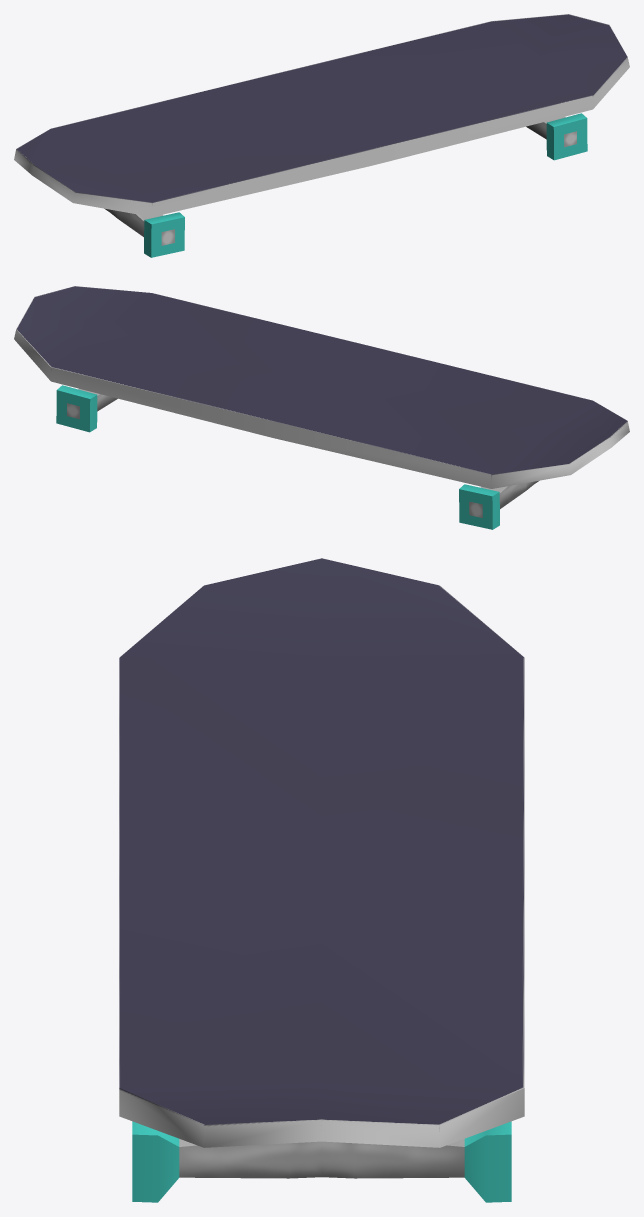
File: skeatbord.fbx
The picture shows the model from 3 angles, top to bottom: view 1: azimuth 30°, elevation 25°; view 2: azimuth 150°, elevation 25°; view 3: azimuth 270°, elevation 25°; orthographic projection. The views are drawn at different scales.
Visible parts, largest first — view 1: bord; view 2: bord; view 3: bord.
Boxes of the visible parts, x1=… form: bord: x1=14, y1=14, x2=629, y2=257; bord: x1=14, y1=286, x2=629, y2=529; bord: x1=119, y1=558, x2=524, y2=1202.
Bounding box in the file's own units: 72.79 × 9.1 × 22.06.
Materials: 1 (1 with a texture image).
